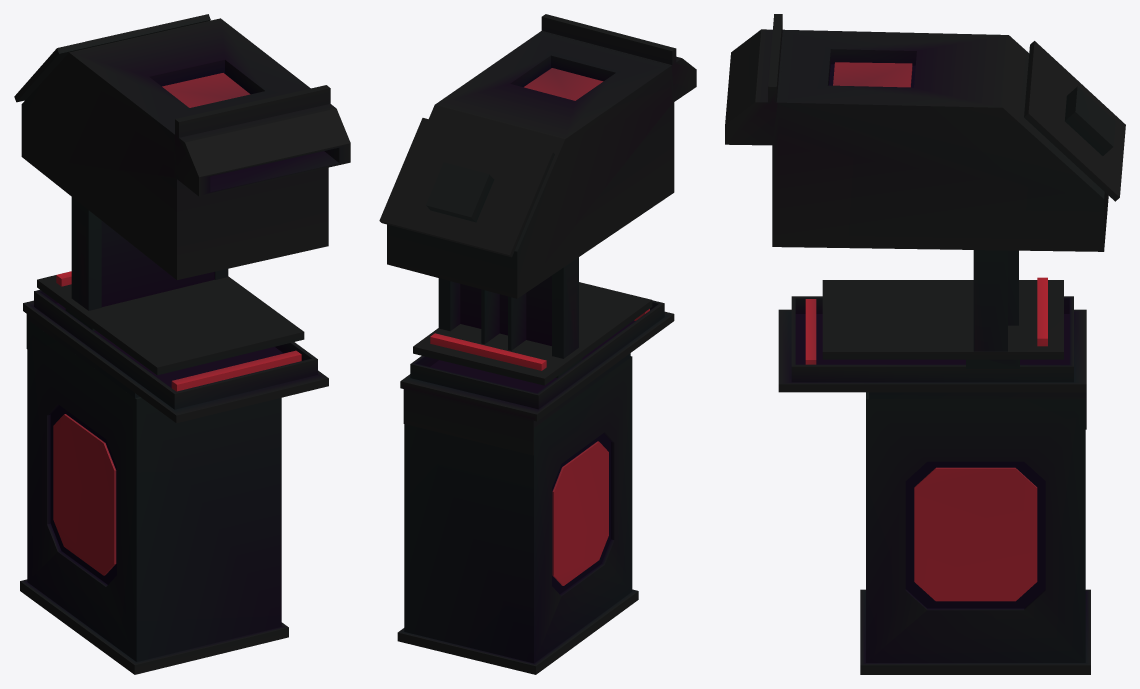
The picture shows the model from 3 angles, left to right: view 1: azimuth 30°, elevation 25°; view 2: azimuth 150°, elevation 25°; view 3: azimuth 270°, elevation 25°; orthographic projection. The views are drawn at different scales.
Visible parts, largest first — view 1: cabinet, head, shelf, red_panel.001, upright_web, sloping_end, roof_red, red_rail; view 2: cabinet, head, shelf, sloping_end, upright_web, red_panel.001, raised_flap, roof_red, upper_red_rail; view 3: head, cabinet, shelf, red_panel, sloping_end, upright_web, raised_flap, roof_red, red_rail, upper_red_rail.
Part boxes in pixels (<box>): cabinet: <box>20,319,288,674</box>; head: <box>21,18,350,279</box>; shelf: <box>23,275,328,423</box>; red_panel.001: <box>53,414,116,575</box>; upright_web: <box>65,197,228,330</box>; sloping_end: <box>14,14,210,102</box>; roof_red: <box>162,73,250,107</box>; red_rail: <box>171,350,301,391</box>; cabinet: <box>397,356,638,674</box>; head: <box>387,14,696,298</box>; shelf: <box>400,282,674,455</box>; sloping_end: <box>379,118,554,257</box>; upright_web: <box>438,257,582,378</box>; red_panel.001: <box>552,441,608,585</box>; raised_flap: <box>426,162,494,222</box>; roof_red: <box>524,68,603,100</box>; upper_red_rail: <box>430,333,546,370</box>; head: <box>725,14,1108,251</box>; cabinet: <box>860,392,1090,674</box>; shelf: <box>778,280,1086,429</box>; red_panel: <box>914,467,1037,601</box>; sloping_end: <box>1024,41,1125,201</box>; upright_web: <box>966,250,1019,368</box>; raised_flap: <box>1065,86,1115,155</box>; roof_red: <box>833,62,912,87</box>; red_rail: <box>805,299,816,364</box>; upper_red_rail: <box>1037,277,1047,346</box>.
Bounding box in the file's own units: 0.0863 × 0.3 × 0.186.
